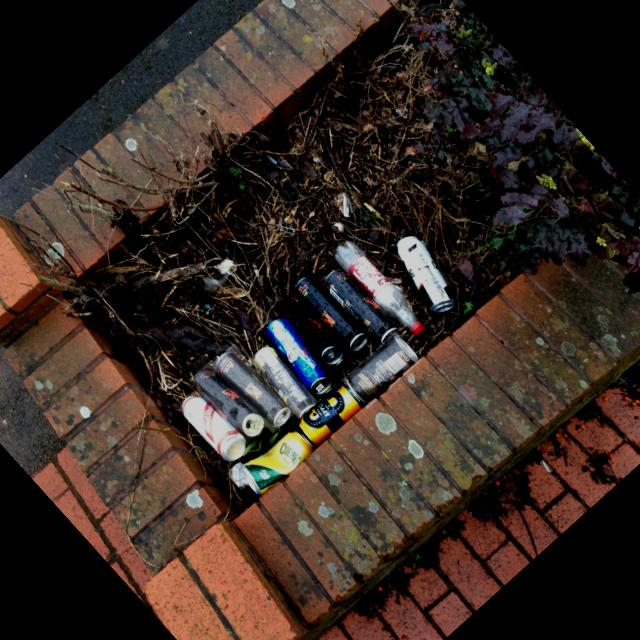Bottle cap: (414, 324, 426, 337)
Clear plastic bottle: (335, 240, 426, 337)
Drink can: (325, 268, 400, 343), (216, 351, 290, 426), (295, 276, 368, 351), (267, 318, 333, 394), (347, 336, 419, 402), (194, 368, 263, 436), (242, 430, 314, 494), (397, 235, 457, 311), (255, 346, 317, 417), (283, 292, 343, 364), (183, 394, 247, 460), (298, 385, 364, 446)
Pop tab: (249, 421, 262, 430), (316, 383, 324, 391), (278, 415, 284, 422), (329, 353, 336, 358), (355, 339, 361, 344)
Unlabeled litter: (232, 461, 249, 486), (201, 273, 224, 290), (196, 288, 213, 309), (221, 258, 234, 273), (343, 192, 350, 215), (542, 459, 552, 471)
